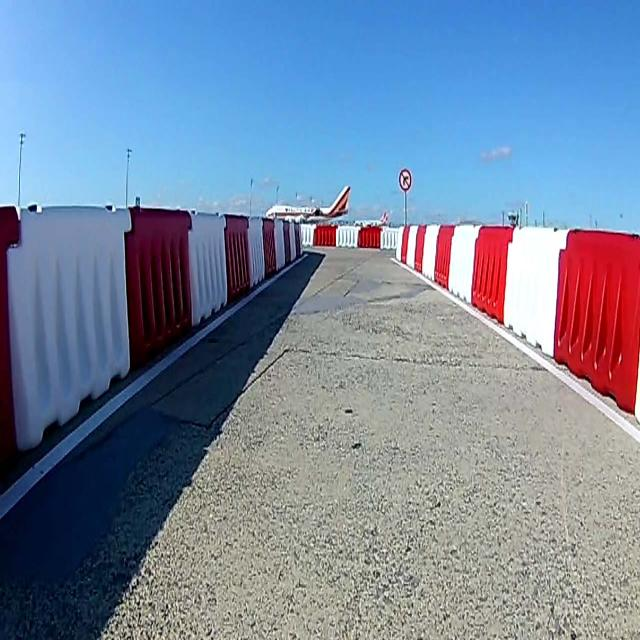sagadonulmez: (400, 170, 412, 191)
